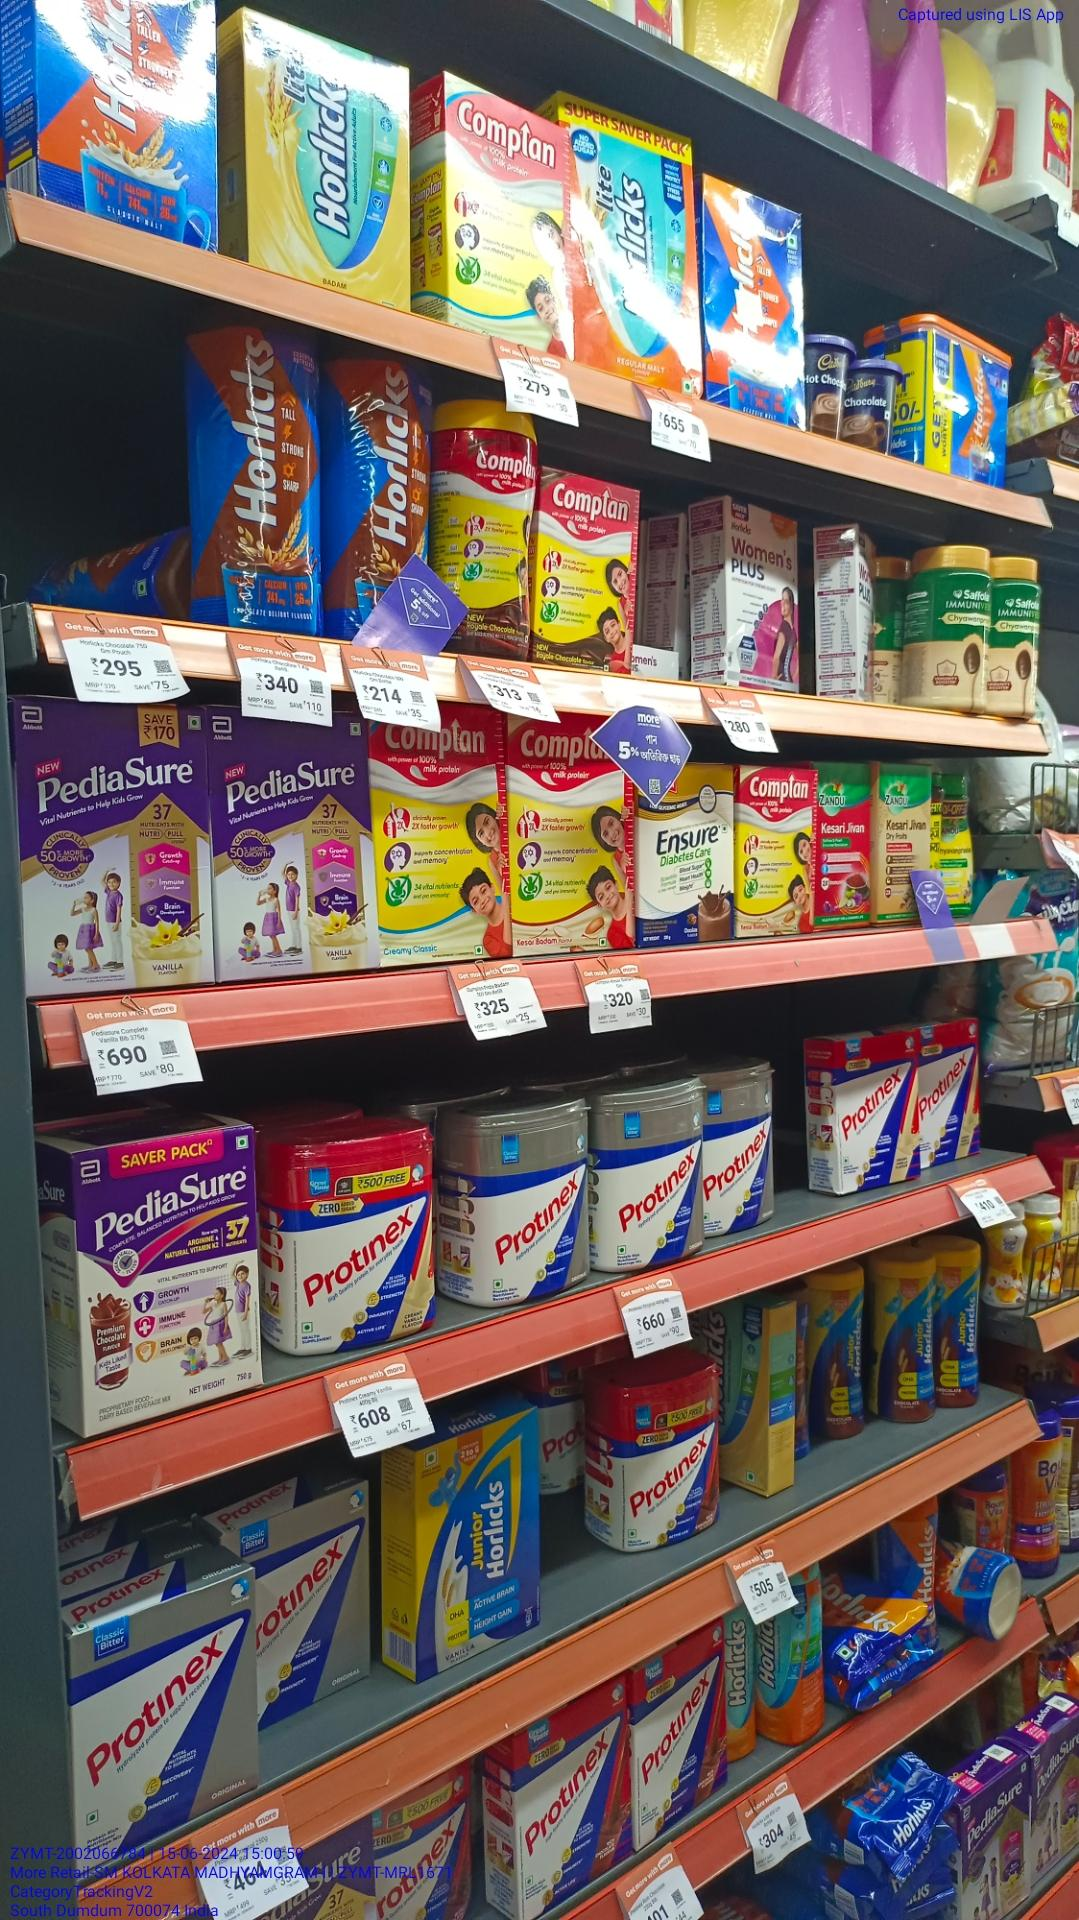COMPLAN_CHOCOLATE_200_GMS_PACK: (537, 471, 636, 673)
COMPLAN_CHOCOLATE_500_GMS_JAR: (439, 402, 530, 659)
COMPLAN_CREAMY_CLASSIC_500_G_PACK: (441, 80, 565, 335), (381, 723, 509, 957)
COMPLAN_KESAR_BADAM_500_GMS_PACK: (513, 756, 629, 948)
HORLICK_CHOCOLATE_1_KG_JAR: (190, 313, 324, 636), (336, 345, 430, 642)
HORLICK_CLASSIC_MALT_500_G_PACK: (704, 174, 813, 425)
HORLICK_MALT_1_KG_CONTAINER: (918, 315, 1009, 485)
PEDIASURE_VANILLA_500_G_PACK: (21, 699, 211, 984), (218, 723, 375, 971)
PROTINEX_ORIGINAL_400_G_JAR: (463, 1110, 591, 1294), (604, 1085, 707, 1253)
PROTINEX_VANILLA_400_G_JAR: (281, 1141, 435, 1331)
